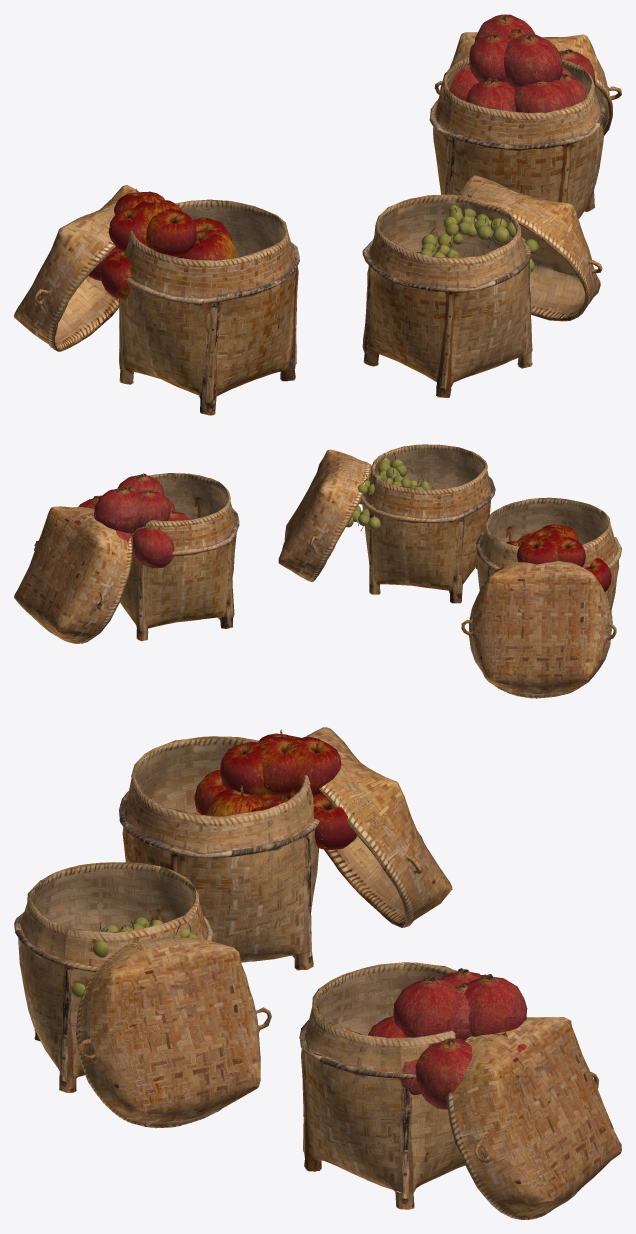
Rendered from prop_fruit_baskets.glb.
3 renders of one model, top to bottom at view 1: azimuth 30°, elevation 25°; view 2: azimuth 150°, elevation 25°; view 3: azimuth 270°, elevation 25°, orthographic. The views are drawn at different scales.
Visible parts, largest first — view 1: Basket_0.001, Basket_0.002, Basket_0.003, Basket_1.001, Basket_1.002, Pomegranate_0.011, Basket_1.003, Apple_0.011, Pomegranate_0.006, Pomegranate_0.010, Pomegranate_0.005, Apple_0.007 (+5 smaller); view 2: Basket_1.001, Basket_0.002, Basket_0.003, Basket_1.003, Basket_0.001, Basket_1.002, Pomegranate_0.009, Pomegranate_0.004, Apple_0.009, Pomegranate_0.010, Apple_0.010, Pomegranate_0.011 (+1 smaller); view 3: Basket_1.002, Basket_0.001, Basket_0.003, Basket_1.003, Basket_0.002, Basket_1.001, Pomegranate_0.011, Pomegranate_0.009, Pomegranate_0.001, Apple_0.009, Apple_0.011, Apple_0.008 (+4 smaller).
Boxes of the visible parts, box(x1,y1,x2,y2) form: Basket_0.001: box(119, 199, 299, 415); Basket_0.002: box(362, 193, 532, 397); Basket_0.003: box(429, 57, 605, 218); Basket_1.001: box(14, 185, 139, 351); Basket_1.002: box(458, 175, 602, 321); Pomegranate_0.011: box(504, 34, 563, 91); Basket_1.003: box(434, 32, 621, 135); Apple_0.011: box(146, 209, 196, 256); Pomegranate_0.006: box(514, 79, 574, 112); Pomegranate_0.010: box(469, 33, 510, 86); Pomegranate_0.005: box(466, 78, 516, 111); Apple_0.007: box(177, 229, 235, 260); Basket_1.001: box(461, 560, 616, 698); Basket_0.002: box(361, 444, 495, 603); Basket_0.003: box(120, 473, 239, 641); Basket_1.003: box(14, 506, 132, 643); Basket_0.001: box(476, 497, 621, 623); Basket_1.002: box(278, 449, 371, 581); Pomegranate_0.009: box(94, 486, 142, 533); Pomegranate_0.004: box(132, 525, 174, 568); Apple_0.009: box(517, 536, 558, 564); Pomegranate_0.010: box(133, 490, 170, 528); Apple_0.010: box(550, 537, 585, 566); Pomegranate_0.011: box(117, 473, 164, 496); Basket_1.002: box(76, 936, 271, 1128); Basket_0.001: box(119, 736, 319, 970); Basket_0.003: box(299, 962, 465, 1209); Basket_1.003: box(446, 1017, 621, 1219); Basket_0.002: box(14, 862, 212, 1092); Basket_1.001: box(306, 727, 452, 927); Pomegranate_0.011: box(393, 975, 458, 1037); Pomegranate_0.009: box(461, 974, 527, 1036); Pomegranate_0.001: box(415, 1038, 472, 1109); Apple_0.009: box(281, 736, 341, 795); Apple_0.011: box(220, 742, 268, 797); Apple_0.008: box(251, 737, 298, 795).
Bounding box in the file's own units: 1.74 × 0.4574 × 1.21.
Materials: 4 (4 with a texture image).
